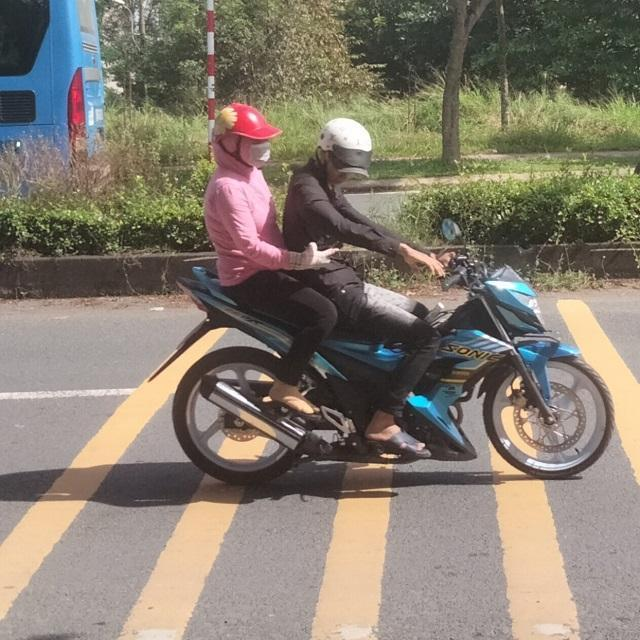Helmet: (208, 102, 280, 172), (314, 115, 376, 188)
